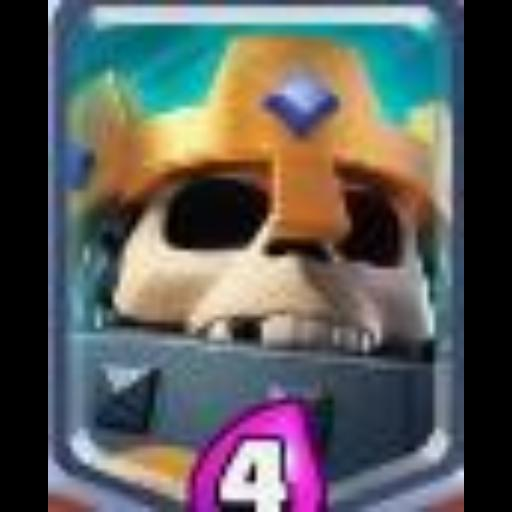skeleton-king: (51, 1, 465, 512)
